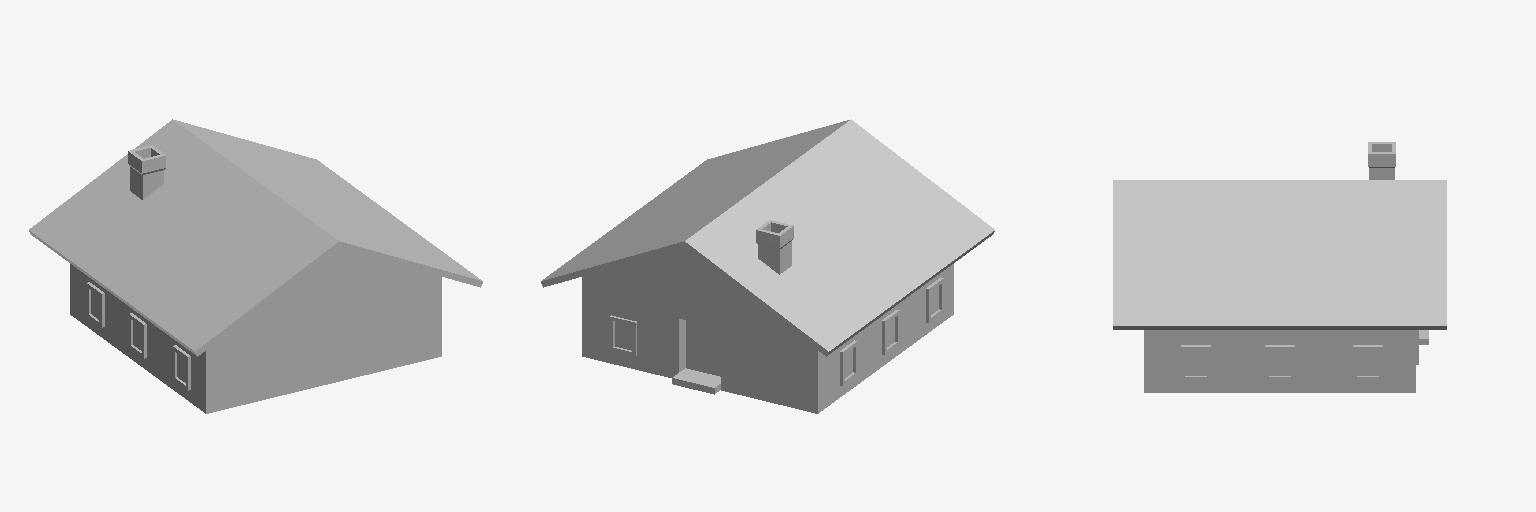
The model's file is house.obj.
The picture shows the model from 3 angles: view 1: azimuth 30°, elevation 25°; view 2: azimuth 150°, elevation 25°; view 3: azimuth 270°, elevation 25°; orthographic projection.
Parts seen in each view (by area): view 1: House; view 2: House; view 3: House.
Part boxes in pixels (x1,y1,x2,y2): House: (29, 119, 482, 413); House: (541, 119, 994, 413); House: (1113, 142, 1446, 392).
Size of the model in its own units: 9.79 by 5.16 by 9.79.